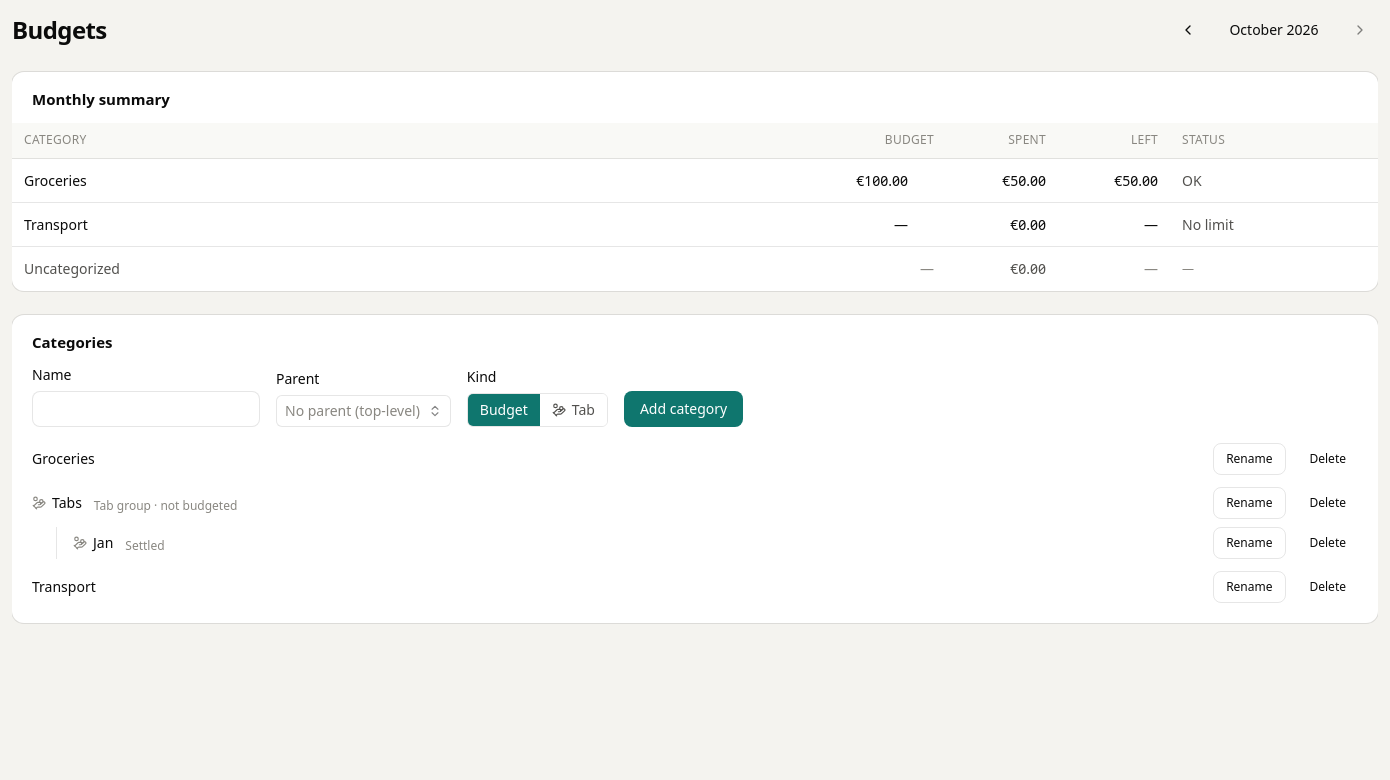
Test case: BudgetsPage tab groups › shows the inherited kind for a subcategory
What coordinates should you click on to do the following:
click the button "Rename" in the row of "Settled"
I would click on:
 (1249, 543)
Its box is [1213,527,1286,559].
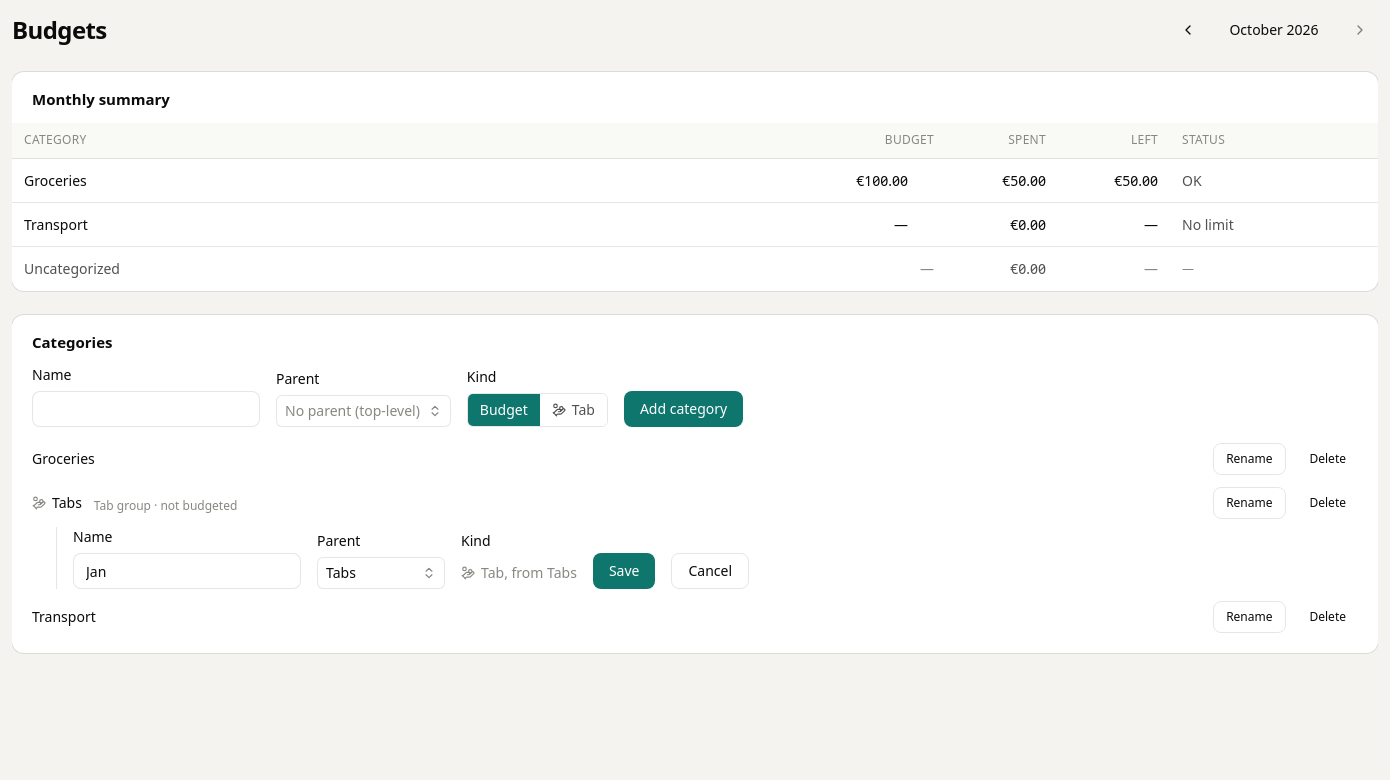
Now the text "Tab, from Tabs" is shown, box [461,563,577,582]
